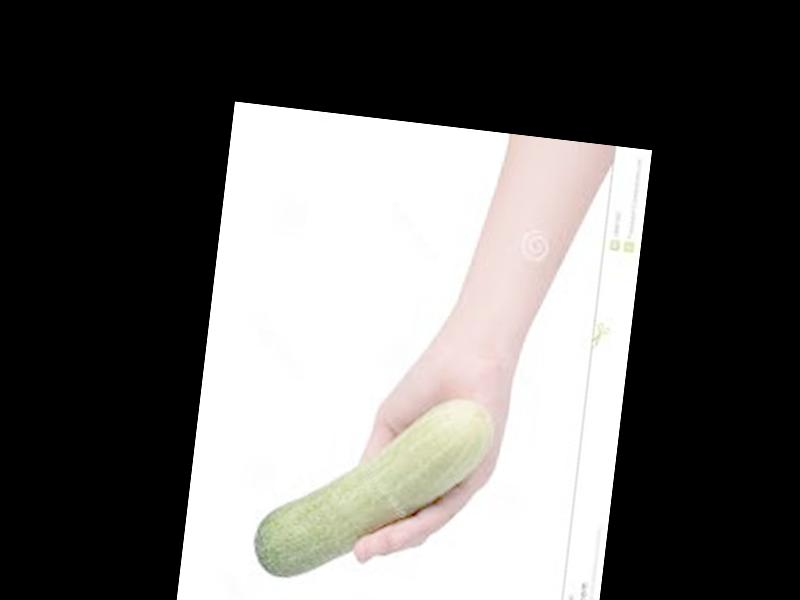Cucumber: (252, 377, 495, 596)
